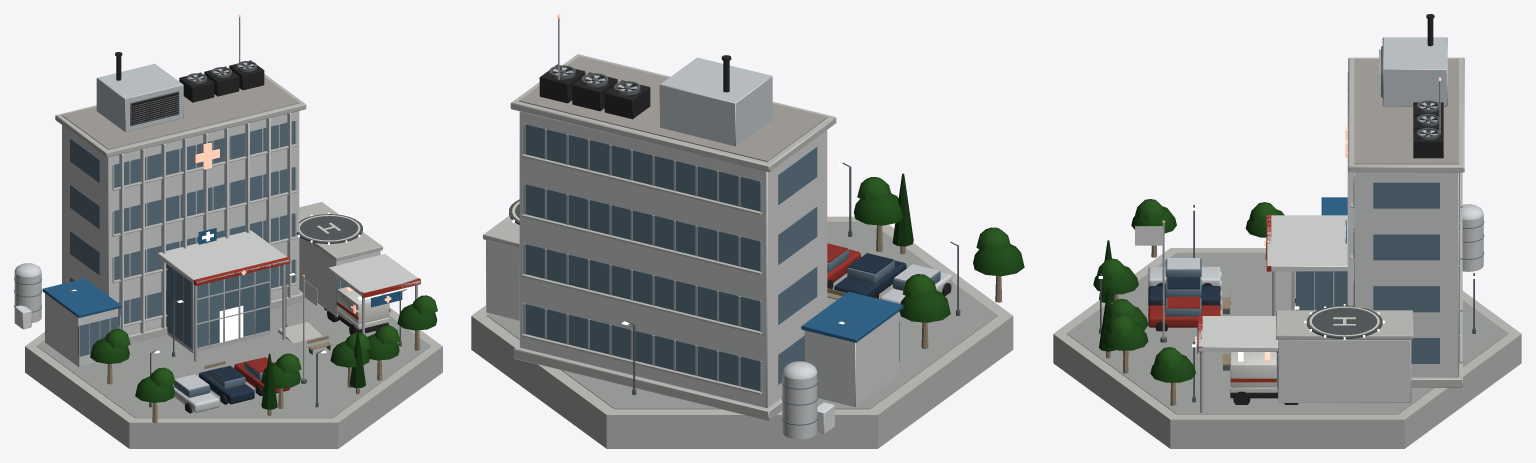
File: hospital_med.glb
3 renders of one model, left to right at view 1: azimuth 30°, elevation 25°; view 2: azimuth 150°, elevation 25°; view 3: azimuth 270°, elevation 25°, orthographic. The views are drawn at different scales.
Visible parts, largest first — view 1: cladding, wall_concrete, glass, pavers, paint, leaf, gravel, dark, metal, steel_dark, wood, glow_cyan (+1 smaller); view 2: cladding, wall_concrete, glass, pavers, paint, gravel, leaf, dark, steel_dark, wood; view 3: cladding, wall_concrete, pavers, paint, glass, leaf, gravel, dark, metal, steel_dark, wood, banner.
Part boxes in pixels (bbox=[...]): cladding: bbox=[14, 63, 420, 366]; wall_concrete: bbox=[25, 74, 442, 448]; glass: bbox=[70, 121, 347, 397]; pavers: bbox=[37, 290, 430, 418]; paint: bbox=[14, 214, 420, 412]; leaf: bbox=[90, 295, 437, 409]; gravel: bbox=[61, 77, 299, 149]; dark: bbox=[115, 52, 388, 413]; metal: bbox=[132, 17, 417, 379]; steel_dark: bbox=[67, 61, 406, 407]; wood: bbox=[107, 330, 419, 422]; glow_cyan: bbox=[202, 231, 380, 342]; cladding: bbox=[486, 57, 899, 434]; wall_concrete: bbox=[471, 54, 1013, 448]; glass: bbox=[525, 124, 940, 391]; pavers: bbox=[486, 221, 997, 409]; paint: bbox=[509, 199, 952, 439]; gravel: bbox=[519, 56, 827, 161]; leaf: bbox=[853, 173, 1024, 322]; dark: bbox=[539, 55, 951, 298]; steel_dark: bbox=[549, 65, 960, 395]; wood: bbox=[827, 225, 1002, 348]; cladding: bbox=[1198, 37, 1459, 402]; wall_concrete: bbox=[1053, 57, 1521, 448]; pavers: bbox=[1066, 252, 1508, 414]; paint: bbox=[1148, 197, 1484, 392]; glass: bbox=[1165, 172, 1459, 389]; leaf: bbox=[1093, 199, 1284, 382]; gravel: bbox=[1354, 59, 1458, 164]; dark: bbox=[1155, 14, 1443, 404]; metal: bbox=[1162, 49, 1440, 412]; steel_dark: bbox=[1099, 46, 1475, 402]; wood: bbox=[1106, 238, 1266, 405]; banner: bbox=[1135, 226, 1163, 245].
Bounding box in the file's own units: 21.3 × 18.85 × 24.6.
